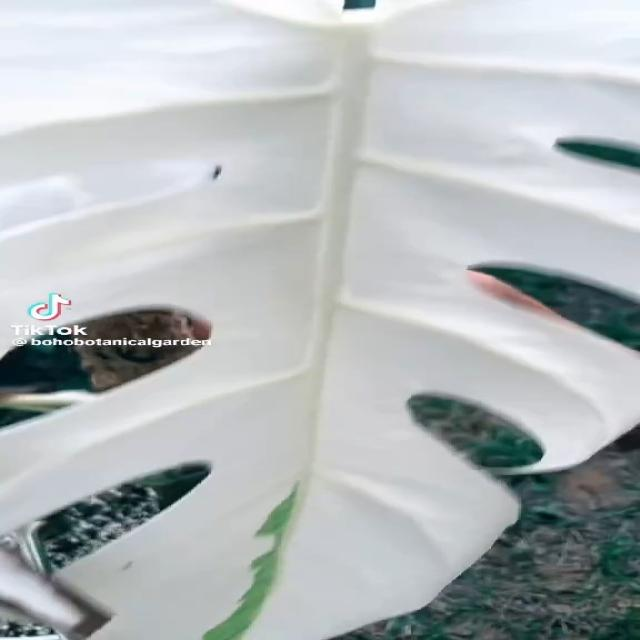lisc_suchy: (344, 269, 640, 450), (0, 541, 111, 639)
lisc_variegata: (0, 0, 640, 640)
roslina_variegata: (0, 0, 640, 640)
